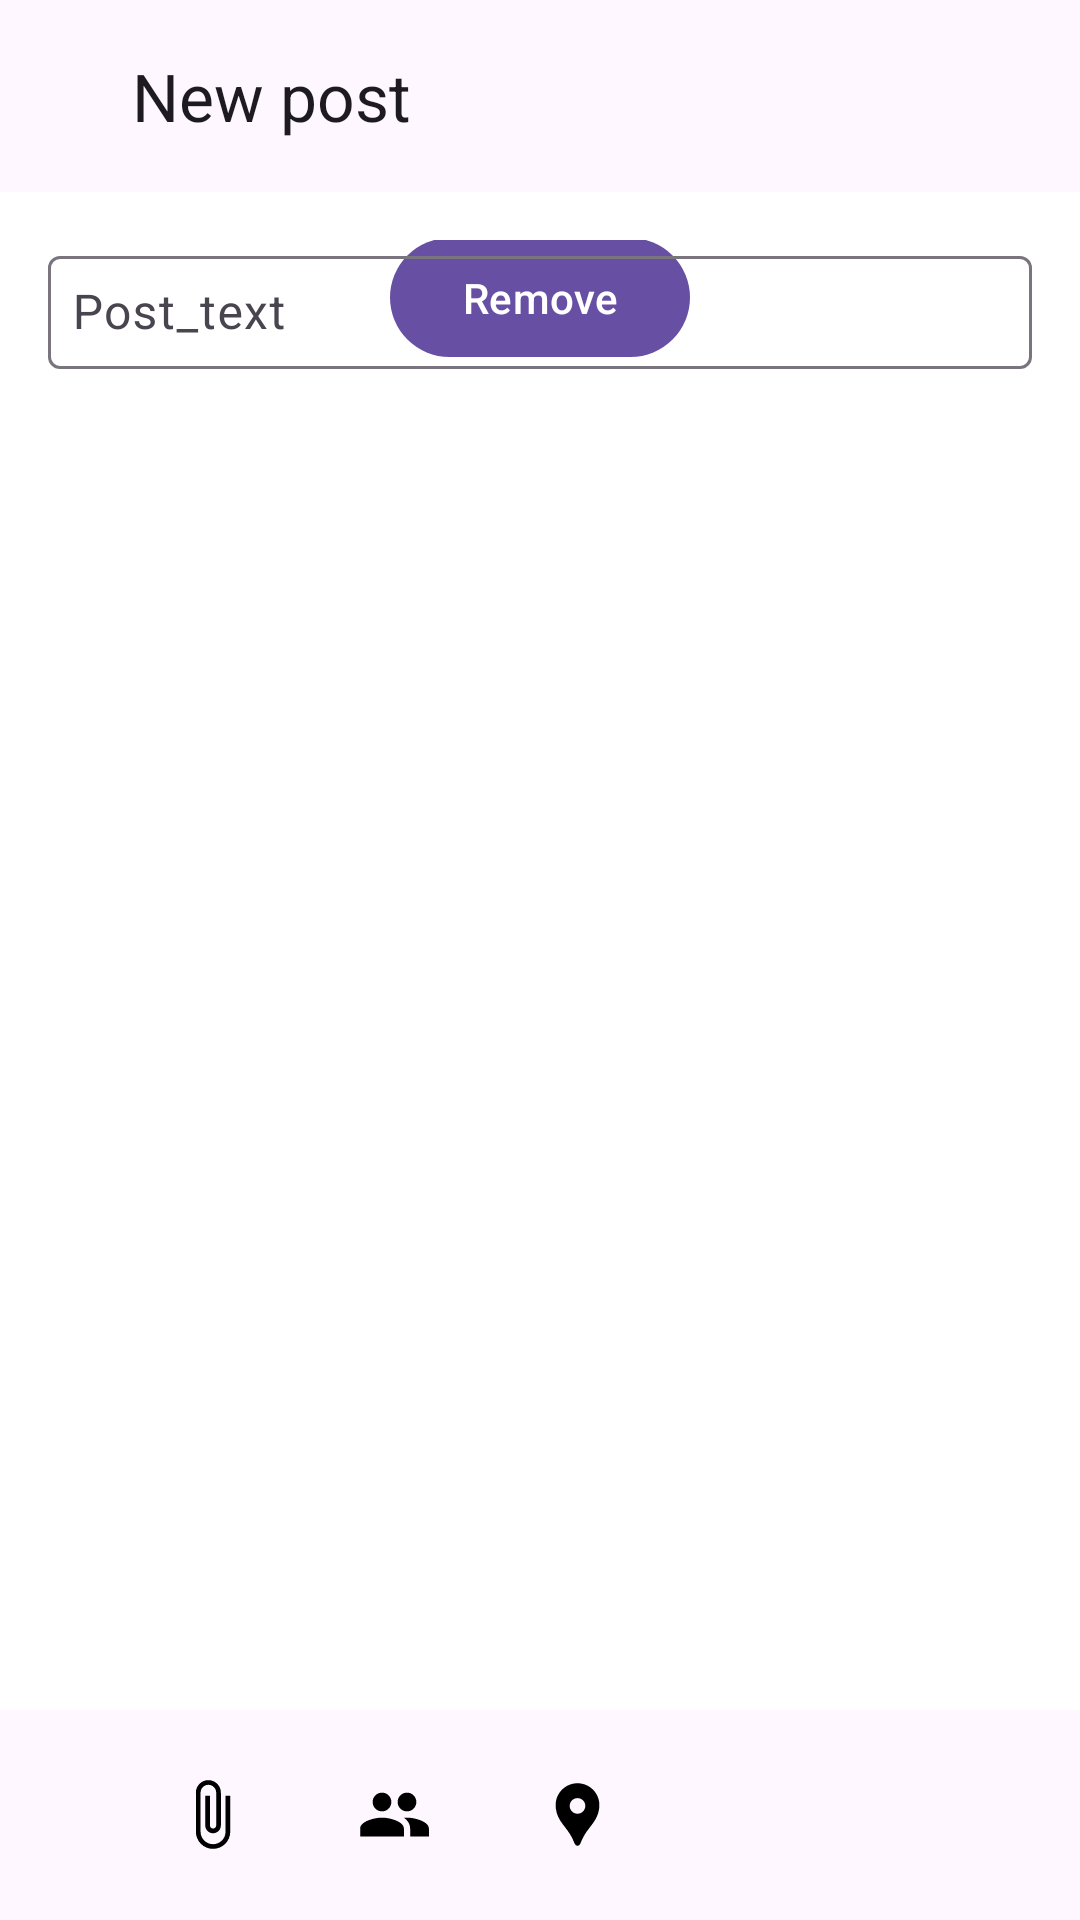

Where to tap for icons on this 1080px×1920px app screen, as [x,y]:
attach file: [213,1814]
location pin: [577,1814]
people: [394,1814]
